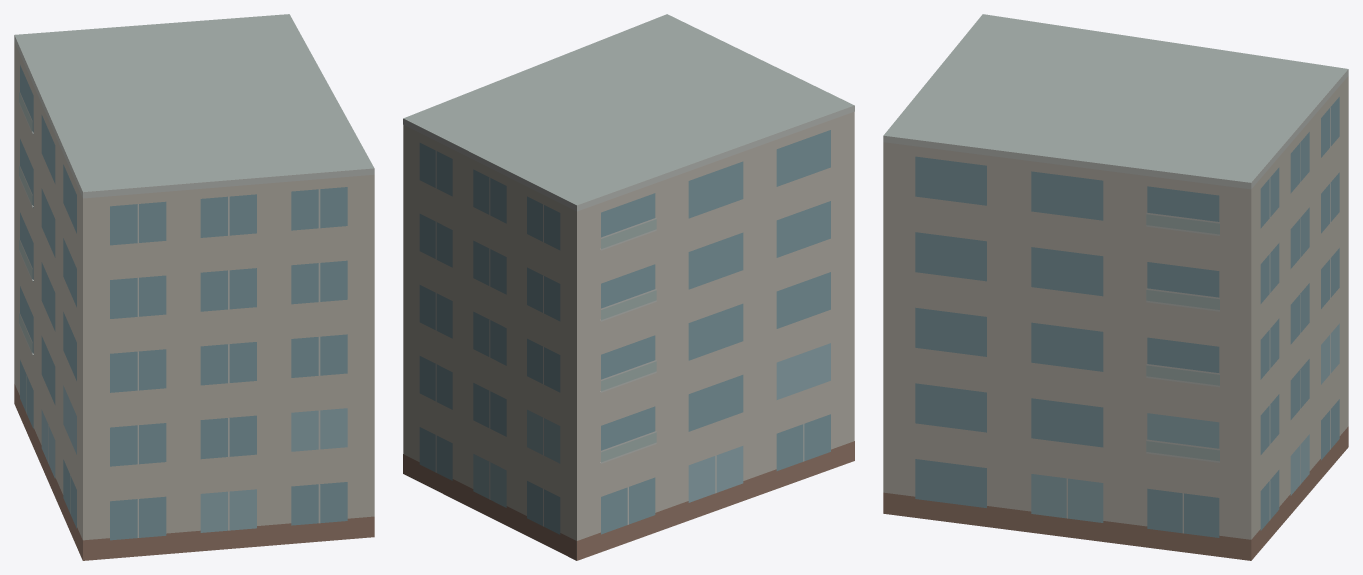
The model's file is survey-upis-32886803.glb.
3 views of the same model, side by side, from view 1: azimuth 30°, elevation 25°; view 2: azimuth 150°, elevation 25°; view 3: azimuth 270°, elevation 25° (orthographic). The views are drawn at different scales.
Visible parts, largest first — view 1: survey-upis-32886803.tmp; view 2: survey-upis-32886803.tmp; view 3: survey-upis-32886803.tmp.
Boxes of the visible parts, box(x1,y1,x2,y2) form: survey-upis-32886803.tmp: box(14, 14, 374, 560); survey-upis-32886803.tmp: box(403, 14, 854, 560); survey-upis-32886803.tmp: box(883, 14, 1348, 560).
Size of the model in its own units: 13.61 by 14.2 by 15.85.
